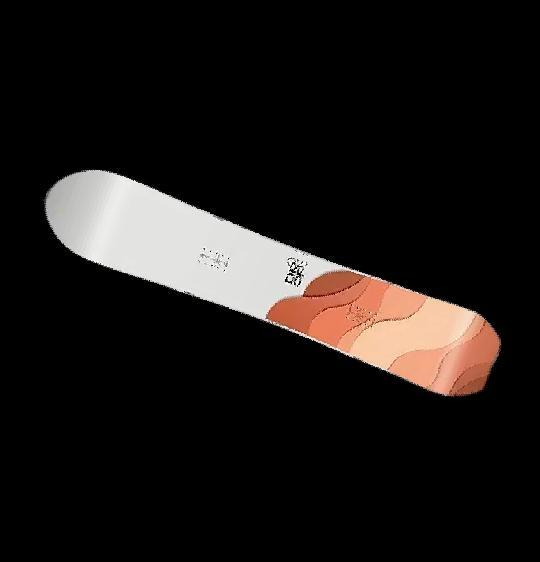Snowboard: (43, 168, 501, 397)
